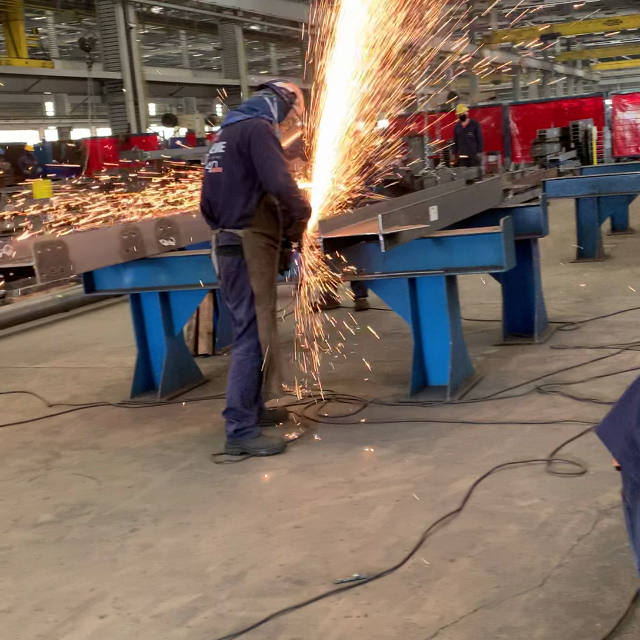face-shield: (272, 107, 309, 150)
helmet: (258, 81, 306, 116)
person: (198, 81, 309, 456)
safety-shoe: (228, 432, 291, 455), (254, 406, 291, 427)
